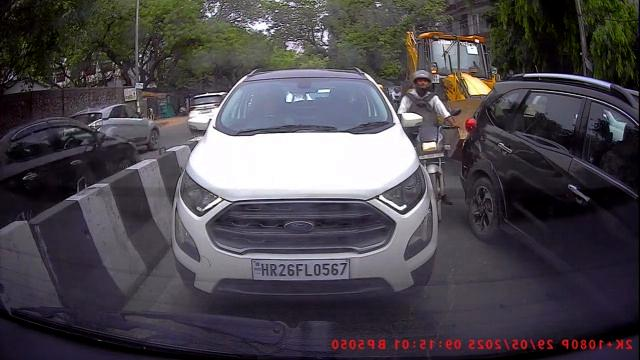motorcycle_with_helmet: (397, 67, 459, 222)
